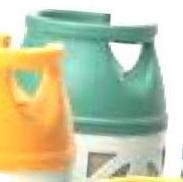cylinder: (1, 1, 183, 182)
